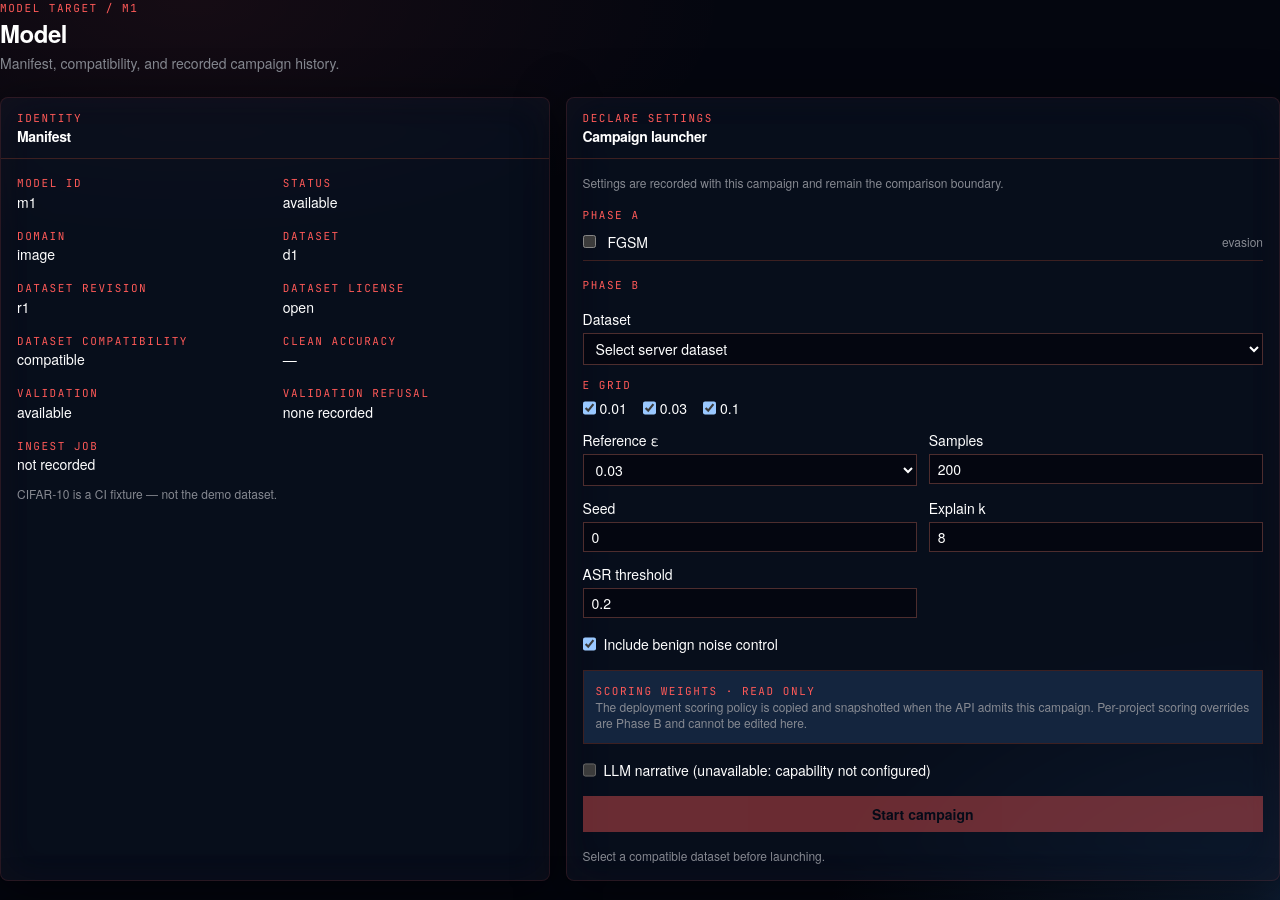
model launcher › refuses to enable launch for a dataset incompatible with the model modality
Click the checkbox labelled "FGSM evasion" at (589, 242), box [583,235,596,248]
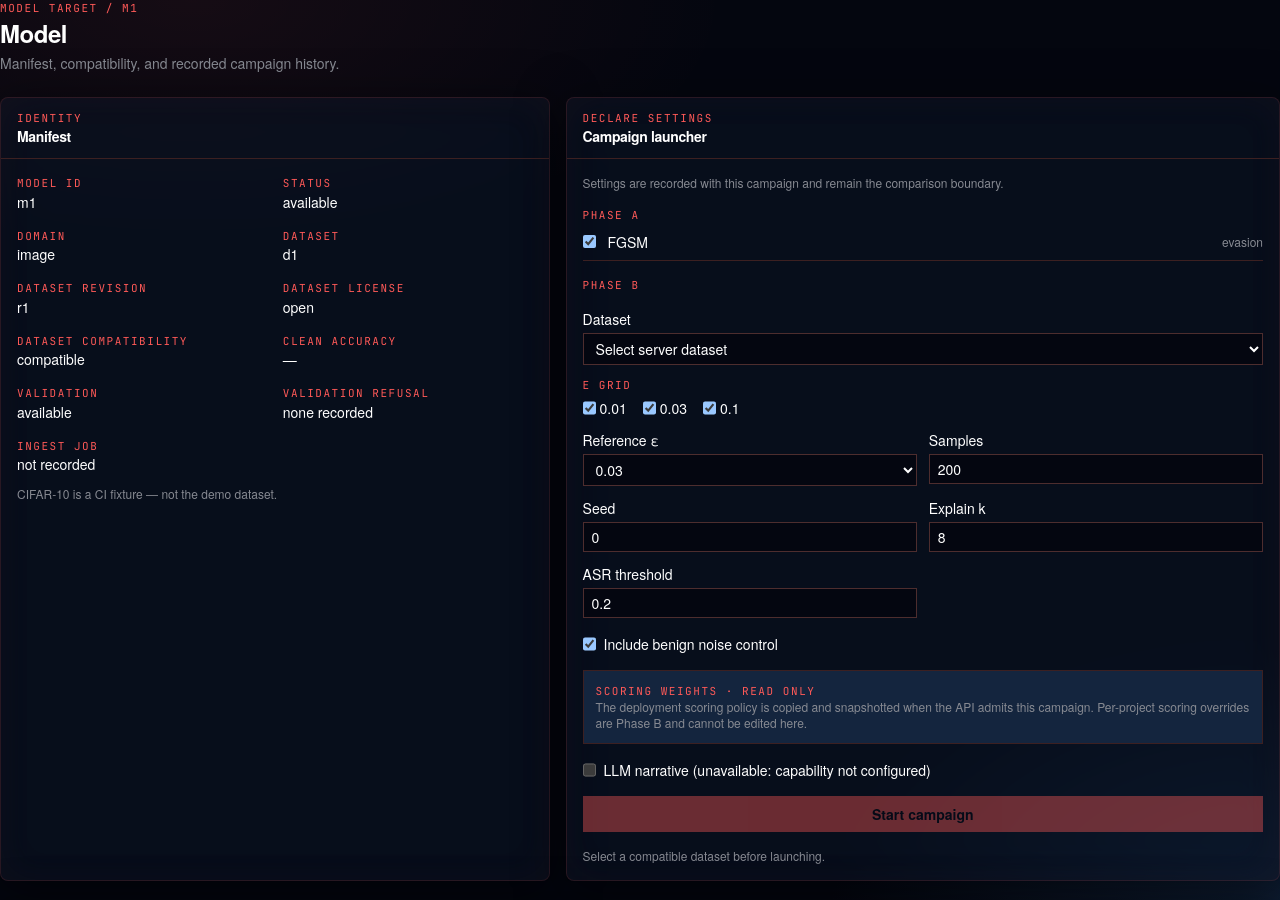
Select "CIFAR-10 · r1 · CI fixture — not the demo dataset" in the dropdown labelled "Dataset" at (923, 349), box [583,333,1263,365]
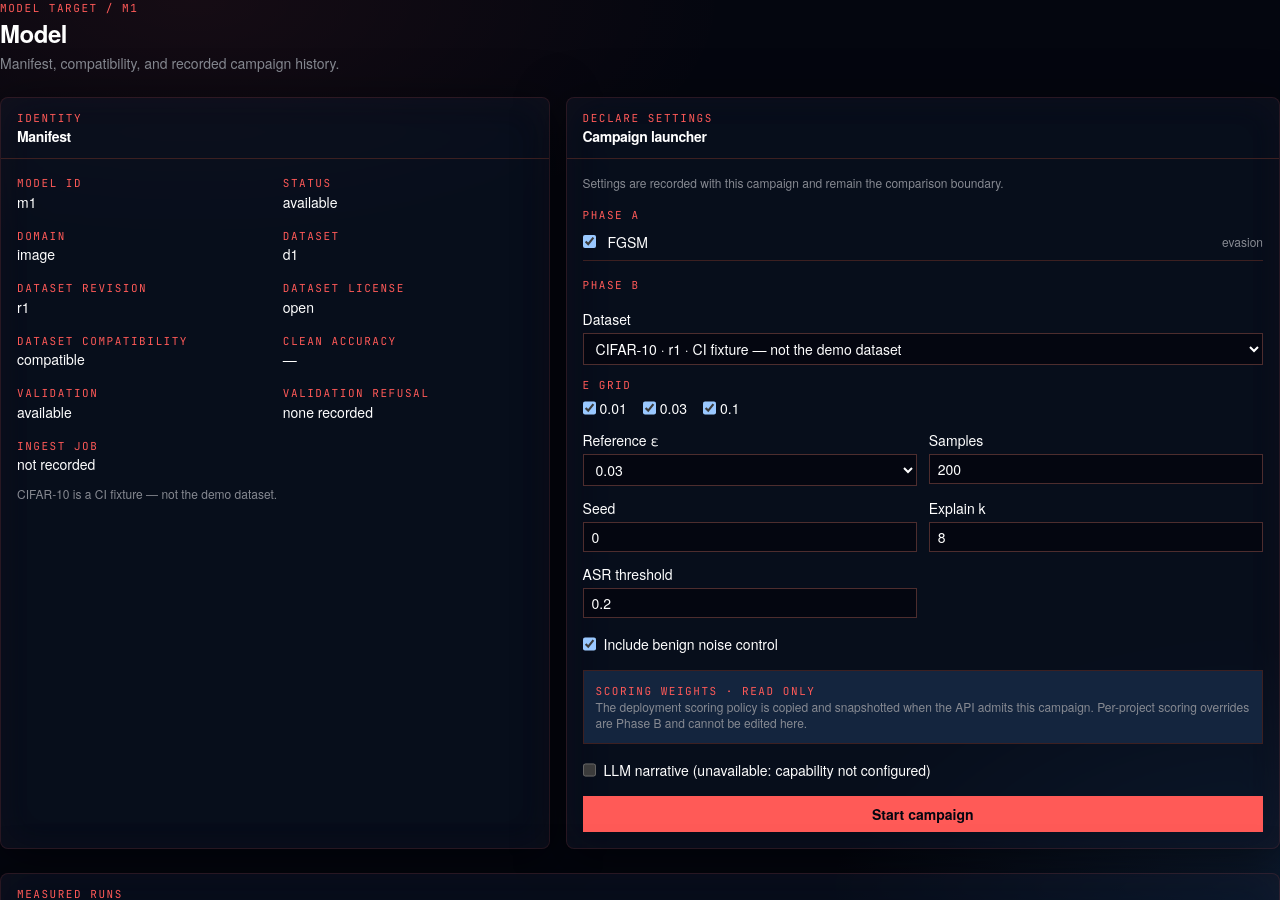
Check: the button "Start campaign" is enabled, box [583,796,1263,832]
Select "Phishing URLs · r2 · not compatible with image targets" in the dropdown labelled "Dataset" at (923, 349), box [583,333,1263,365]
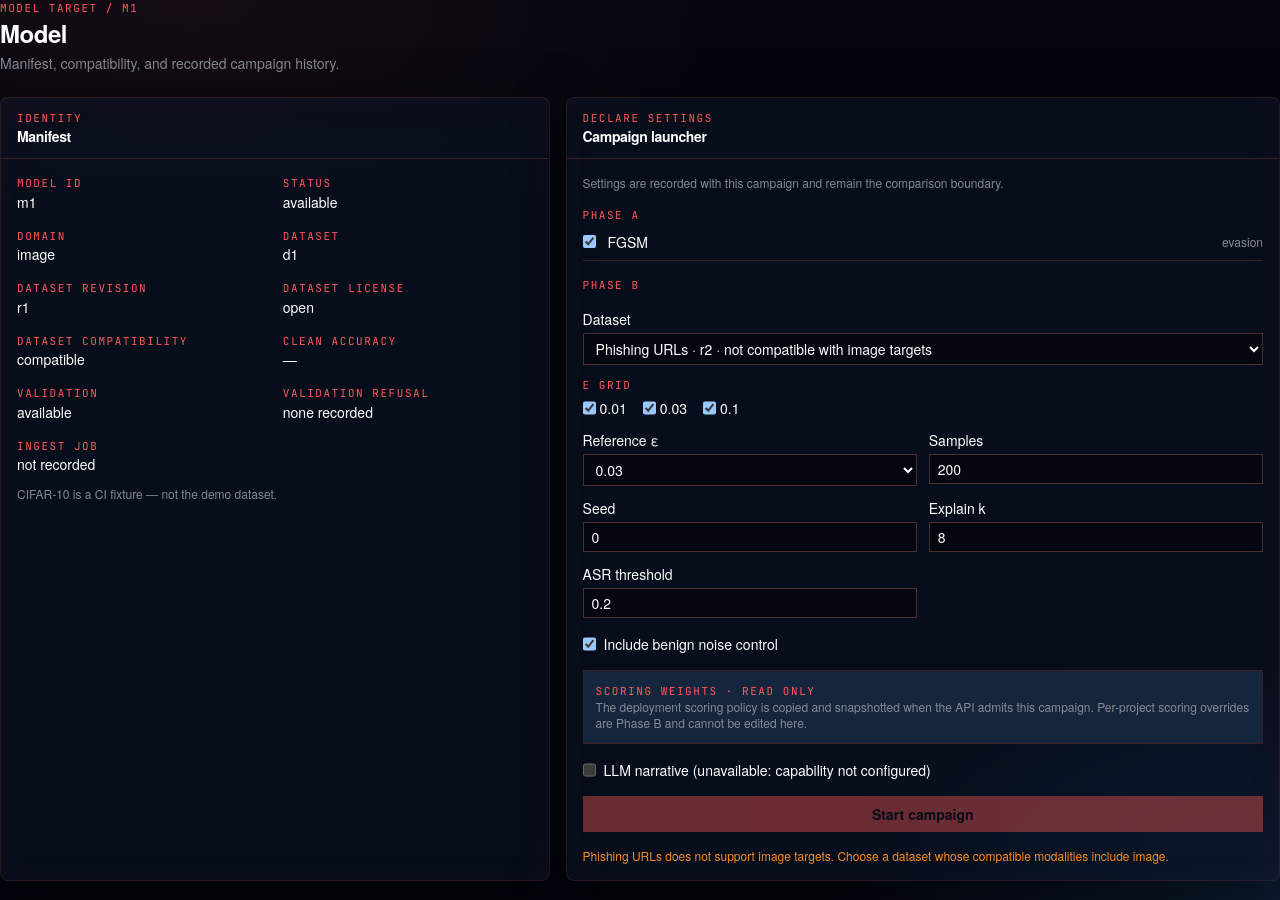
Check: the button "Start campaign" is disabled, box [583,796,1263,832]
Check: the text "Phishing URLs does not support image targets" is shown, box [583,848,1263,864]
